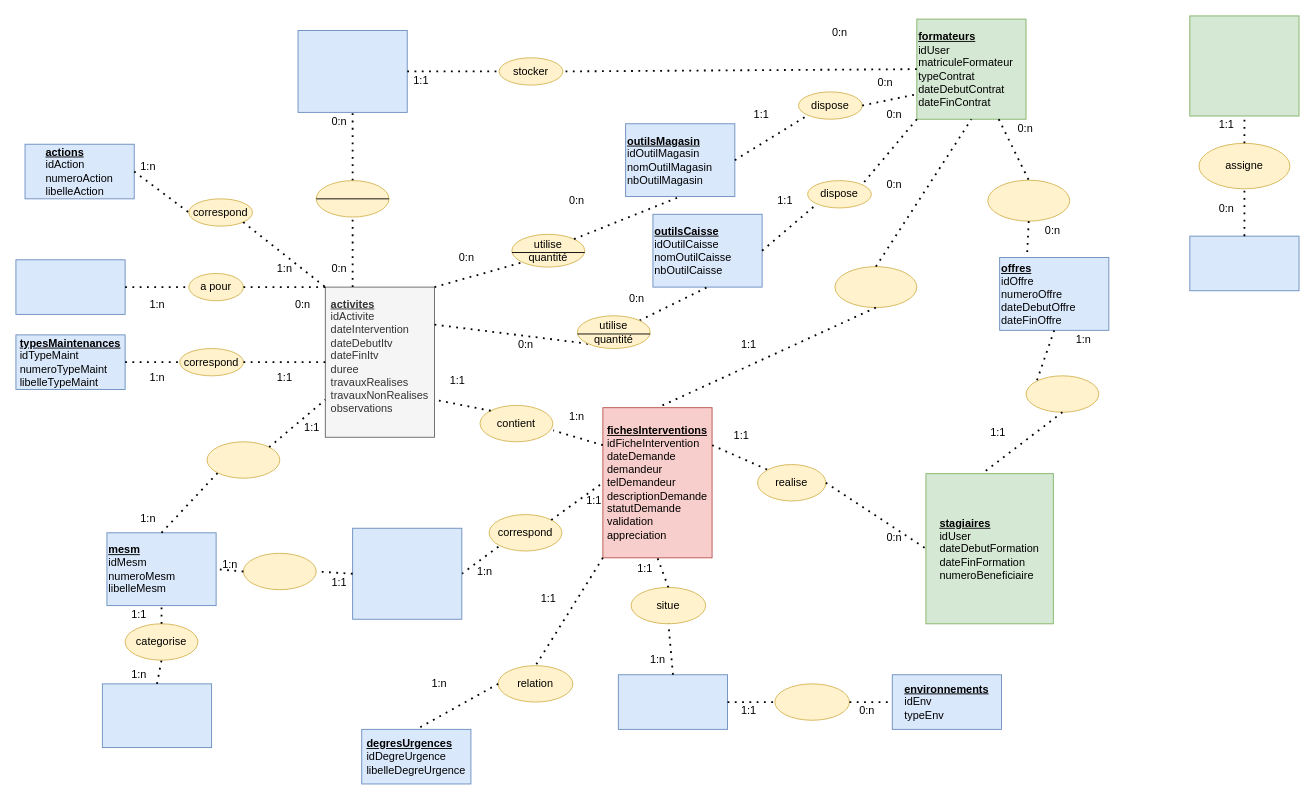
Some shapes in this 1315 by 800 pixel diagram are drawn without their labels. The centre of each missing label's shape, as x and y in pixels:
"anime" belongs at (1028,200).
"blocsCompetences idBlocComp numeroBlocComp libelleBlocComp" belongs at (156,715).
"causes idCause numeroCause libelleCause" belongs at (70,286).
"est de nature" belongs at (243,459).
"lieux idLieu nomLieu" belongs at (672,701).
"materiaux idMateriel nomMateriel nbDispo" belongs at (352,71).
"necessite quantité" belongs at (352,198).
"operations idOperation numeroOperation intituleOperation schemaOperation" belongs at (407,573).
"participe" belongs at (1062,393).
"redige" belongs at (875,287).
"regroupe" belongs at (279,571).
"reuni" belongs at (811,701).
"roles idRole libelleRole" belongs at (1244,263).
"utilisateurs idUser nomUser prenomUser telUser emailUser mdpUser" belongs at (1244,65).
